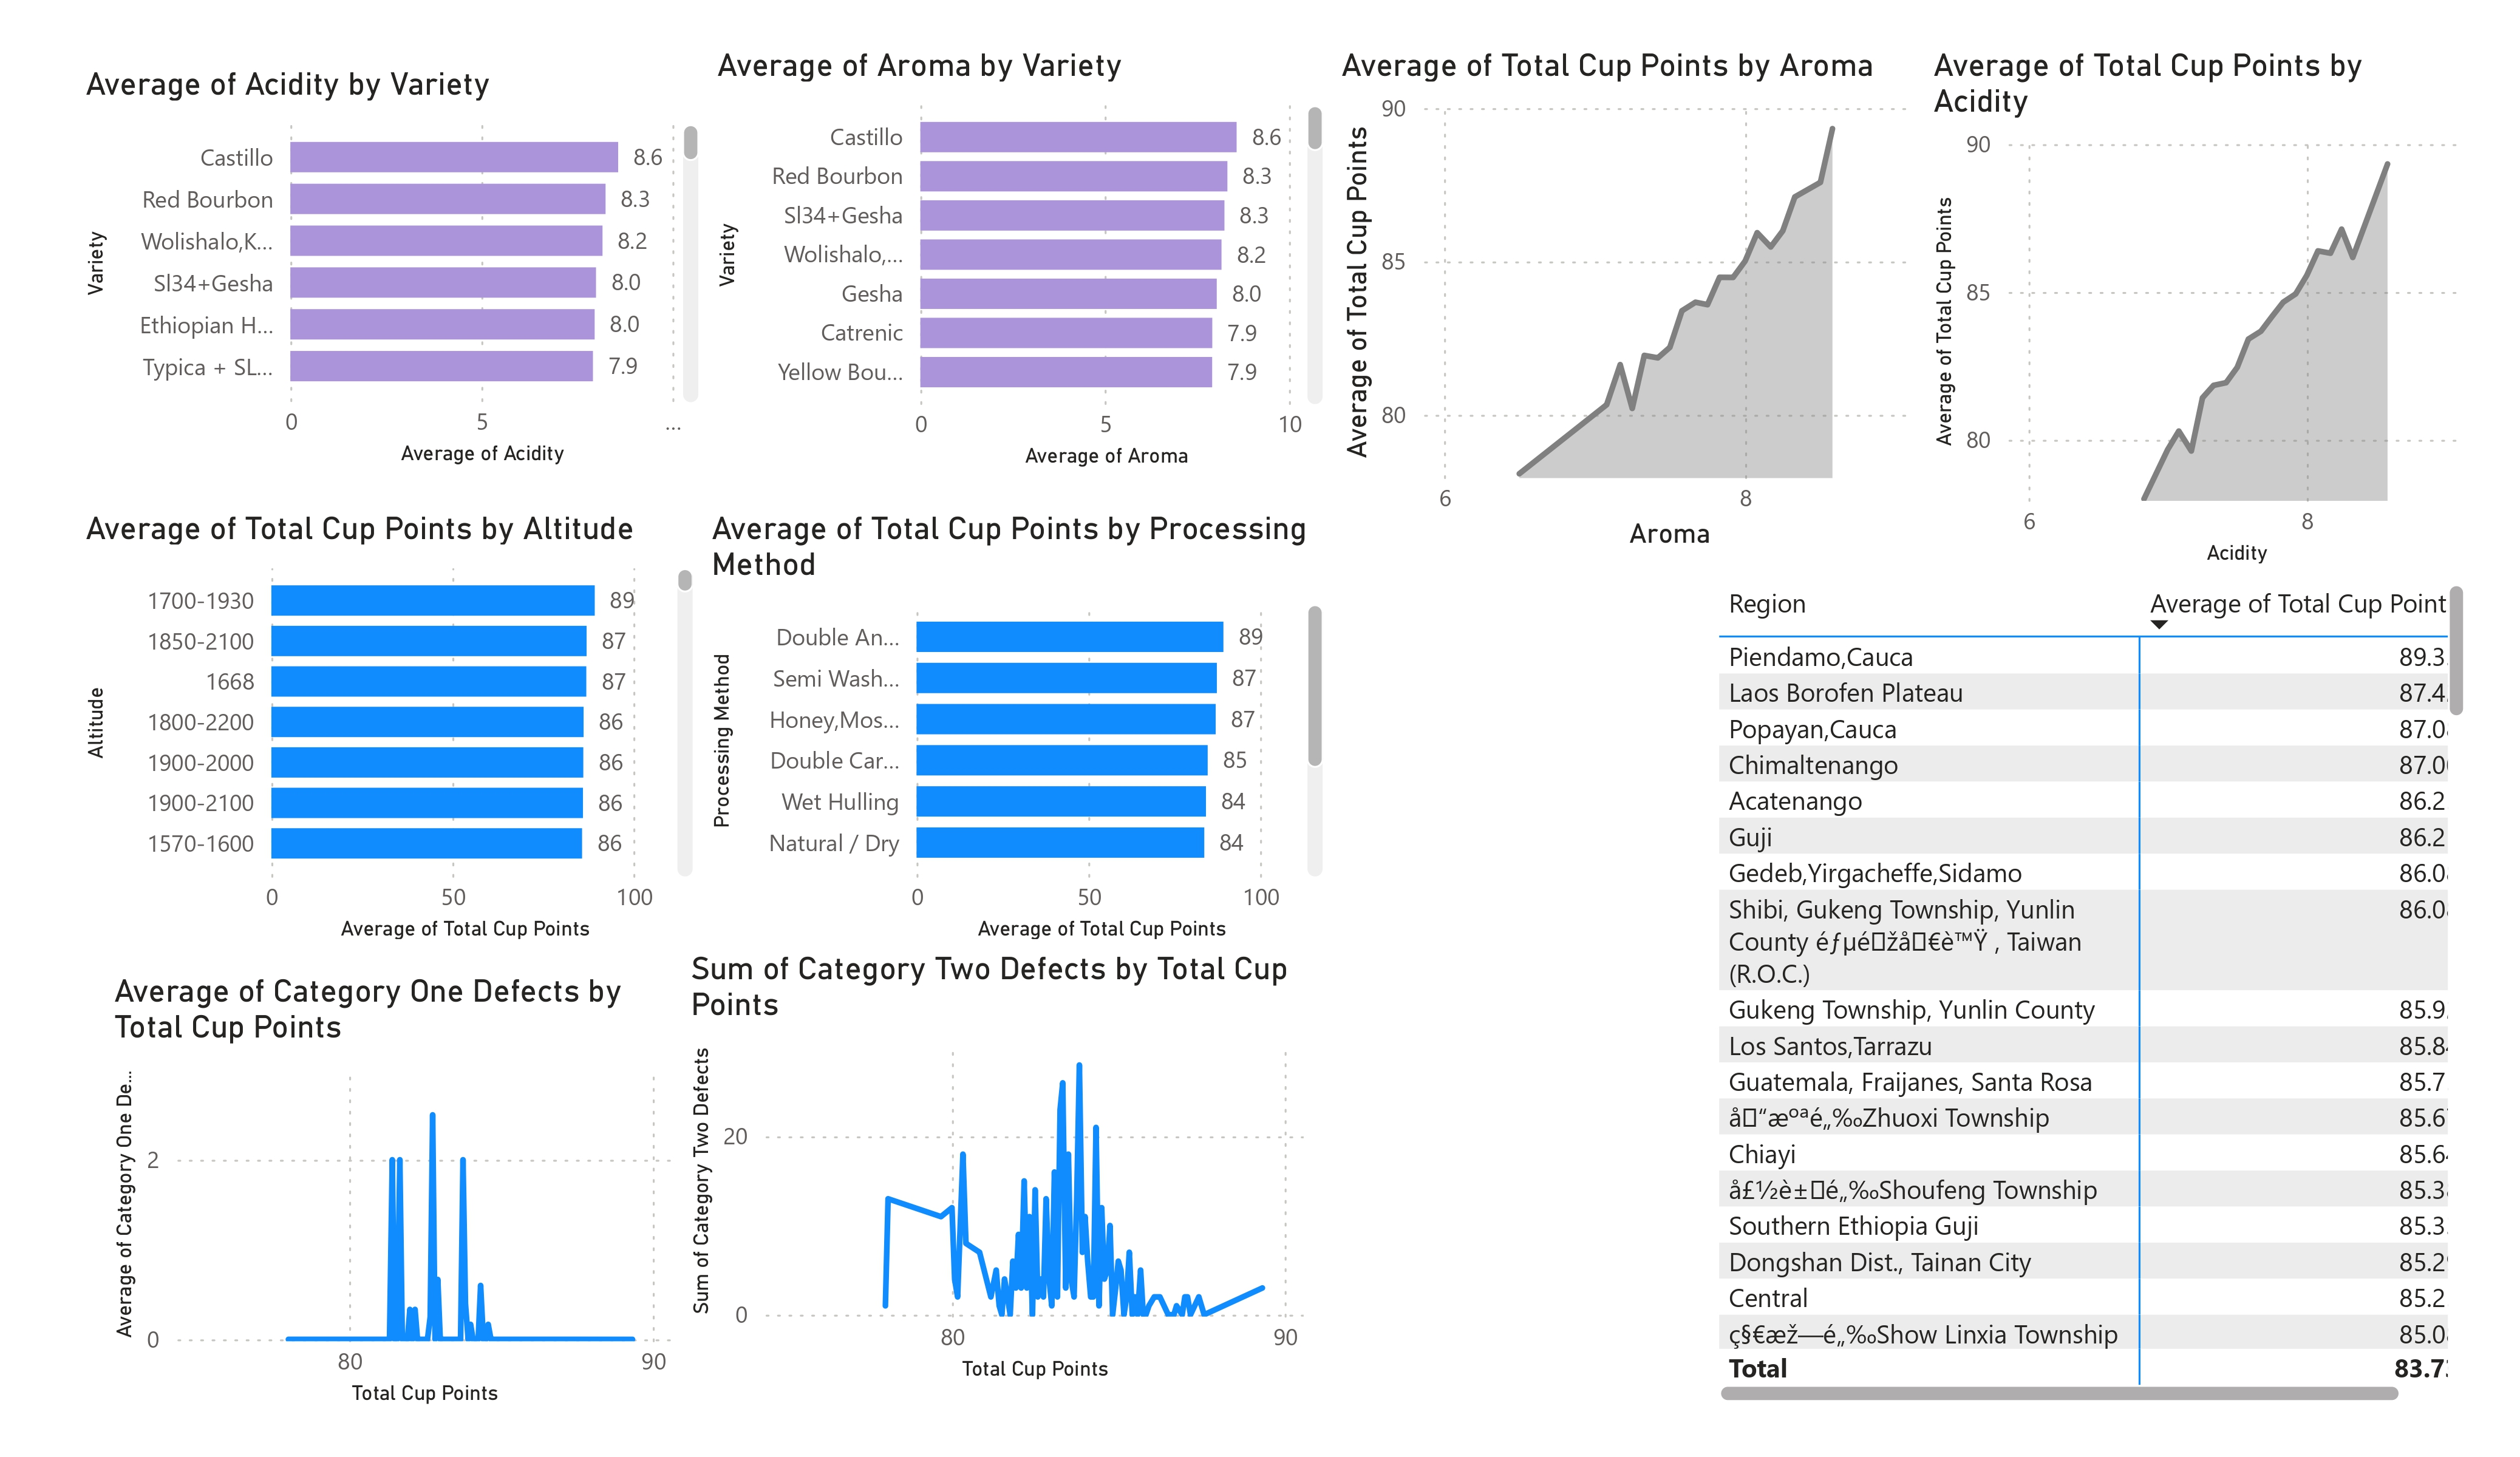

What the dashboard file says about the page in this screenshot:
{"tool":"powerbi","page":{"name":"Page 1","canvas":[1280,720],"ordinal":0},"visuals":[{"type":"clusteredBarChart","fields":{"Category":["df_arabica_clean.Variety"],"Y":["Avg(df_arabica_clean.Acidity)"]},"box":[15.7,10.5,333.6,215.4],"z":0},{"type":"clusteredBarChart","fields":{"Category":["df_arabica_clean.Variety"],"Y":["Avg(df_arabica_clean.Aroma)"]},"box":[349.3,0,328.4,226.9],"z":1000},{"type":"clusteredBarChart","fields":{"Category":["df_arabica_clean.Altitude"],"Y":["Avg(df_arabica_clean.Total Cup Points)"]},"box":[15.7,243.7,330.5,232.2],"z":2000},{"type":"pivotTable","fields":{"Rows":["df_arabica_clean.Region"],"Values":["Avg(df_arabica_clean.Total Cup Points)"]},"box":[877.5,278.6,402.5,441.8],"z":3000},{"type":"stackedAreaChart","fields":{"Y":["Avg(df_arabica_clean.Total Cup Points)"],"Category":["df_arabica_clean.Aroma"]},"box":[677.6,0,312.7,269.8],"z":4000},{"type":"stackedAreaChart","fields":{"Category":["df_arabica_clean.Acidity"],"Y":["Avg(df_arabica_clean.Total Cup Points)"]},"box":[990.3,0,289.7,278.2],"z":5000},{"type":"clusteredBarChart","fields":{"Category":["df_arabica_clean.Processing Method"],"Y":["Avg(df_arabica_clean.Total Cup Points)"]},"box":[346.1,243.7,331.5,232.2],"z":6000},{"type":"lineChart","fields":{"Category":["df_arabica_clean.Total Cup Points"],"Y":["Avg(df_arabica_clean.Category One Defects)"]},"box":[31.4,488.4,303.3,232.2],"z":7000},{"type":"lineChart","fields":{"Category":["df_arabica_clean.Total Cup Points"],"Y":["Sum(df_arabica_clean.Category Two Defects)"]},"box":[334.6,475.8,333.6,232.2],"z":8000}]}

Visuals, with their boxes in screenshot pixels (x1, y1, x2, y2):
clusteredBarChart - df_arabica_clean.Variety x Avg(df_arabica_clean.Acidity): 75,66,709,474
clusteredBarChart - df_arabica_clean.Variety x Avg(df_arabica_clean.Aroma): 709,46,1332,476
clusteredBarChart - df_arabica_clean.Altitude x Avg(df_arabica_clean.Total Cup Points): 75,508,703,948
pivotTable - df_arabica_clean.Region x Avg(df_arabica_clean.Total Cup Points): 1711,574,2474,1411
stackedAreaChart - Avg(df_arabica_clean.Total Cup Points) x df_arabica_clean.Aroma: 1331,46,1925,557
stackedAreaChart - df_arabica_clean.Acidity x Avg(df_arabica_clean.Total Cup Points): 1925,46,2474,573
clusteredBarChart - df_arabica_clean.Processing Method x Avg(df_arabica_clean.Total Cup Points): 703,508,1331,948
lineChart - df_arabica_clean.Total Cup Points x Avg(df_arabica_clean.Category One Defects): 105,972,681,1411
lineChart - df_arabica_clean.Total Cup Points x Sum(df_arabica_clean.Category Two Defects): 681,948,1313,1389
